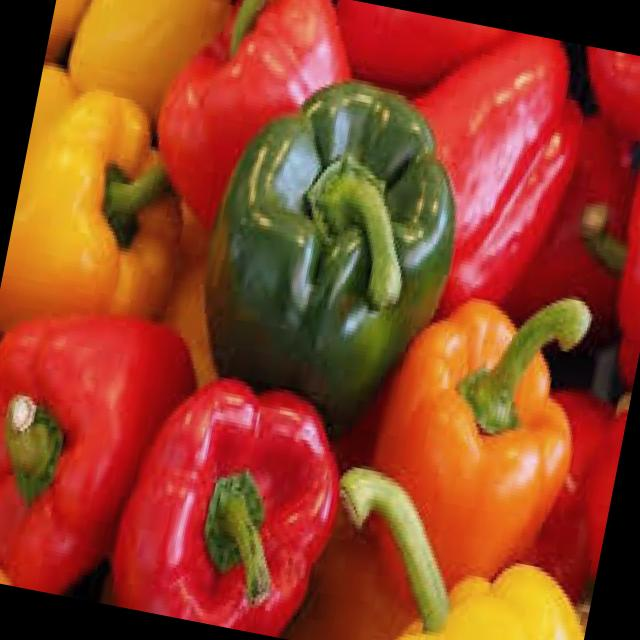Bell pepper: (188, 64, 538, 416), (102, 345, 388, 640), (360, 272, 610, 600), (374, 16, 606, 330), (0, 46, 239, 342), (0, 294, 213, 614), (131, 0, 384, 226), (352, 501, 602, 640), (544, 110, 640, 408), (552, 43, 640, 180), (43, 0, 178, 87)
